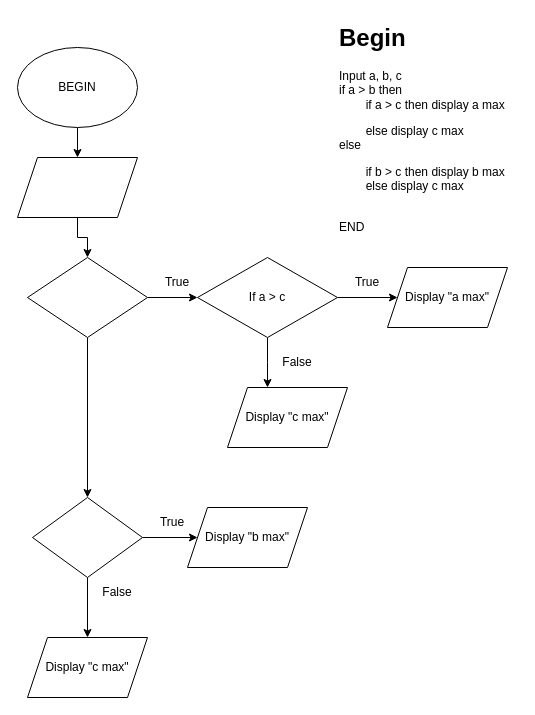
This 535x715 diagram has some shape labels left out. The shapes that lost their labels are listed below. From the top down, each one's centre as x and y in pixels, then its label:
the point at 77,187: Input a, b, c
the point at 87,297: if a > b
the point at 87,537: if b > c
